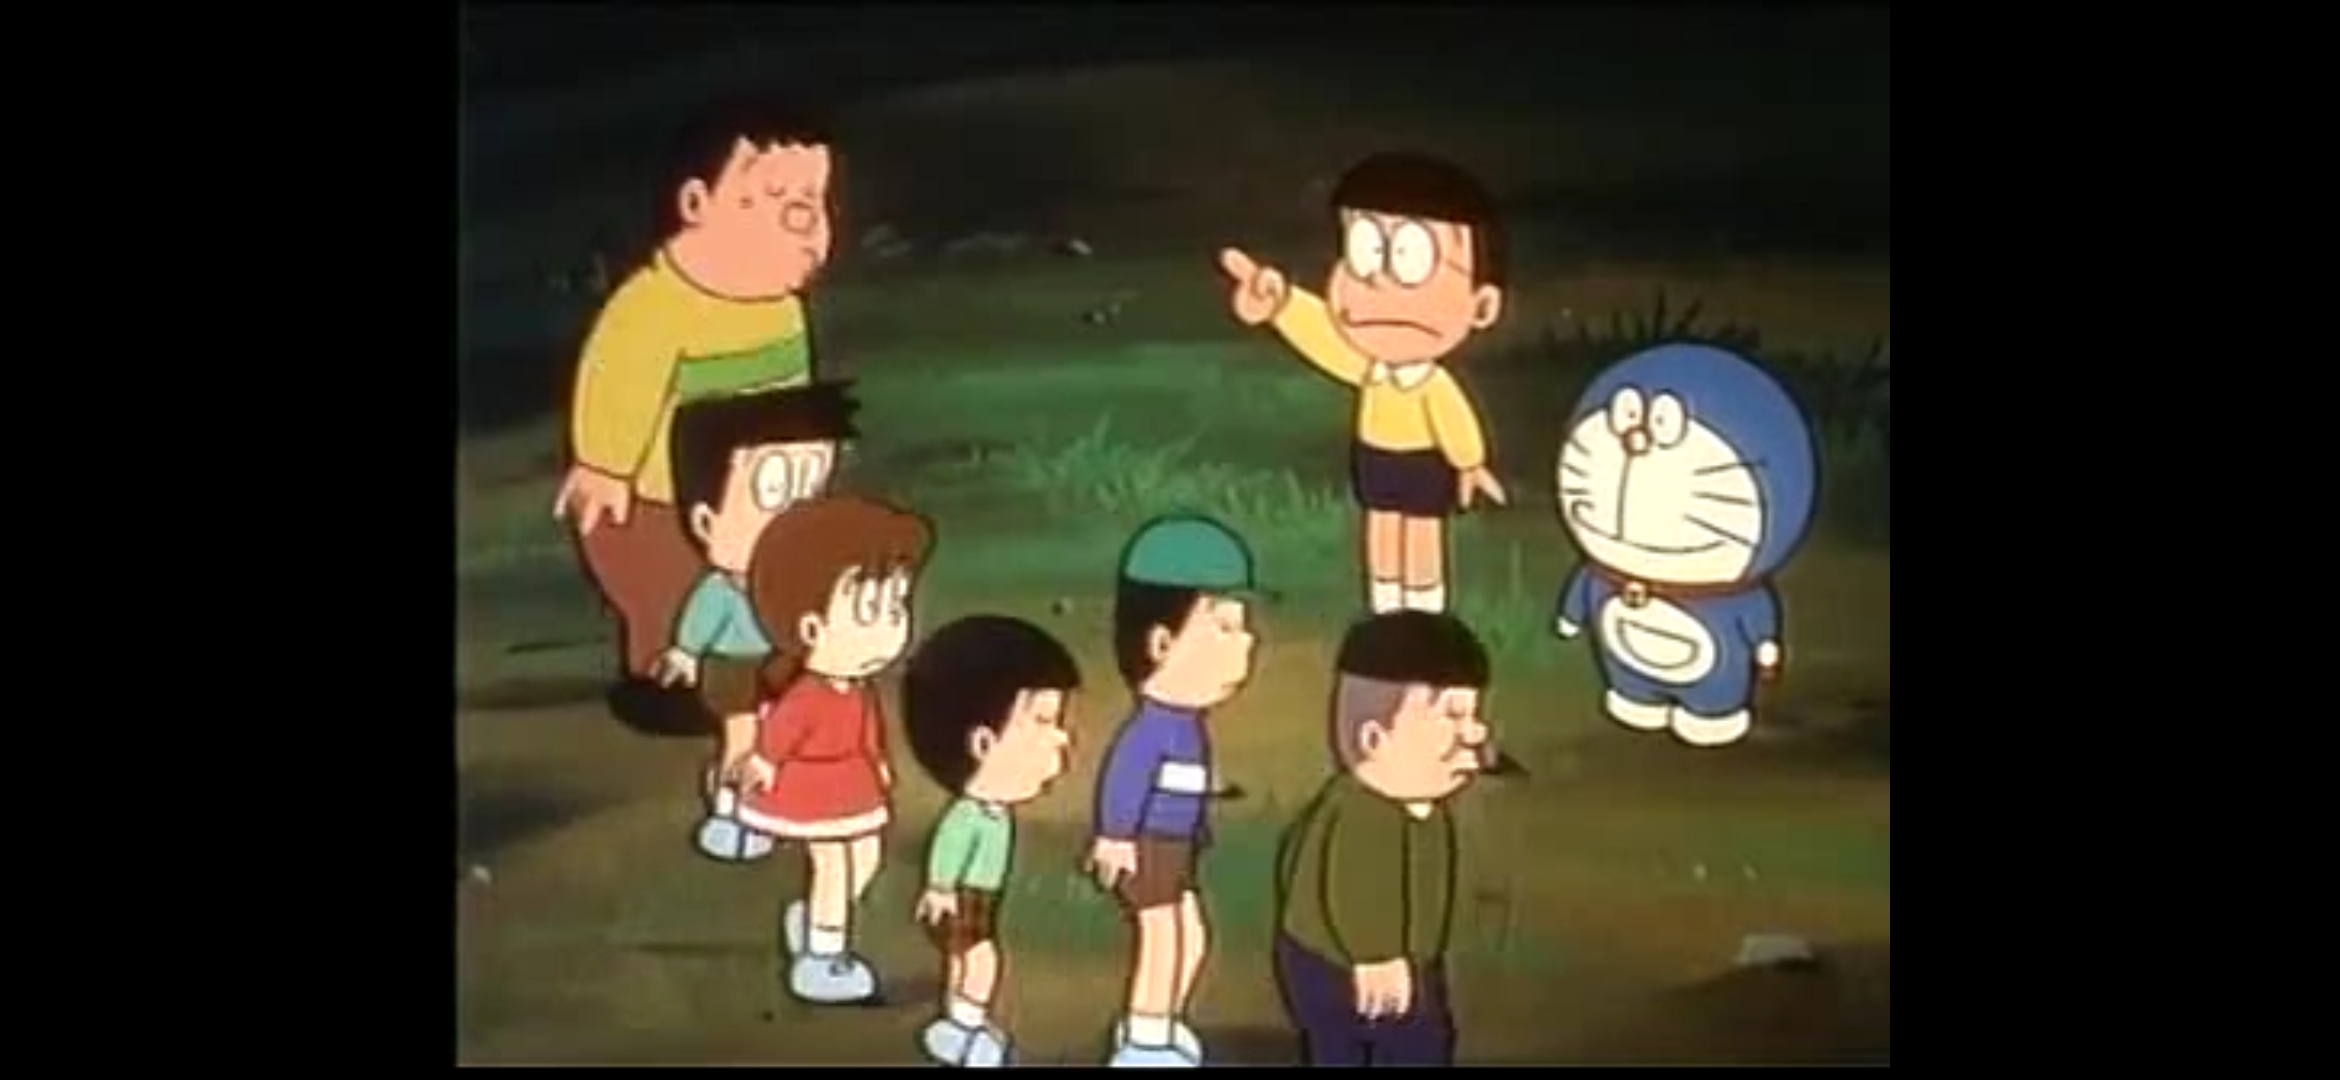Doraemon: (1557, 345, 1816, 606)
Nobi: (1324, 149, 1504, 362)
Shizuka: (745, 492, 934, 677)
Suneo: (669, 377, 866, 571)
Takeshi: (658, 104, 831, 300)
